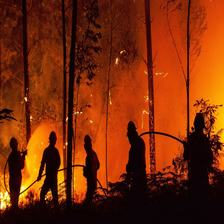fire: (1, 180, 57, 208)
